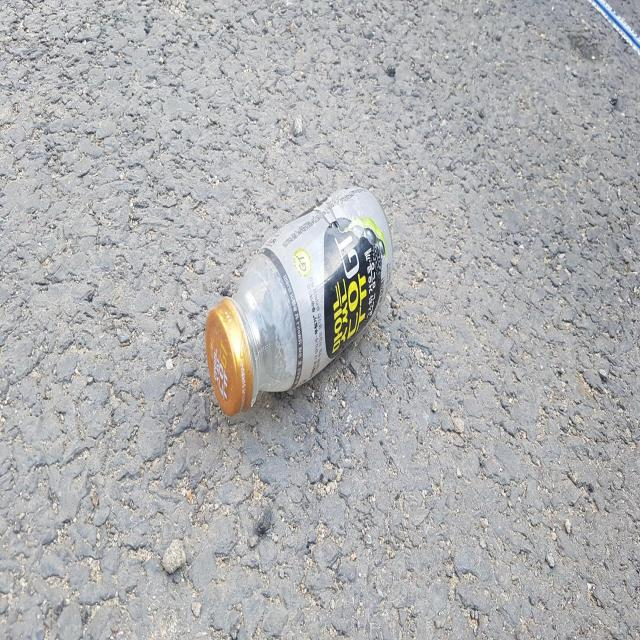glass: (205, 187, 393, 415)
